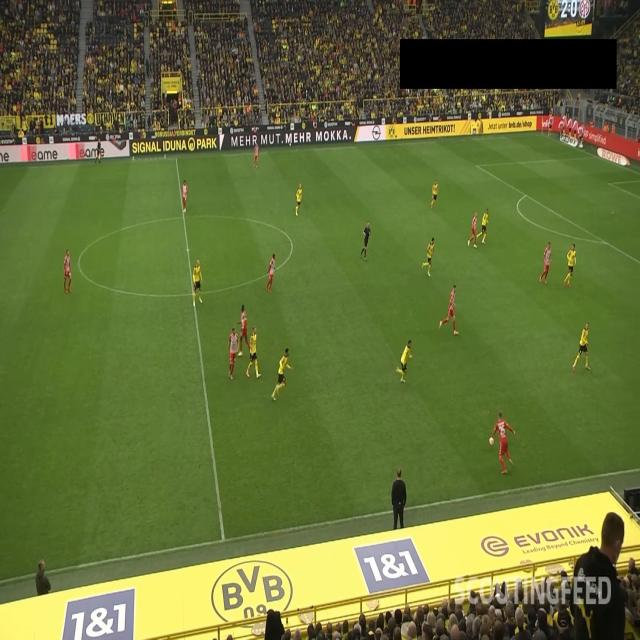ball: (488, 436, 495, 446)
